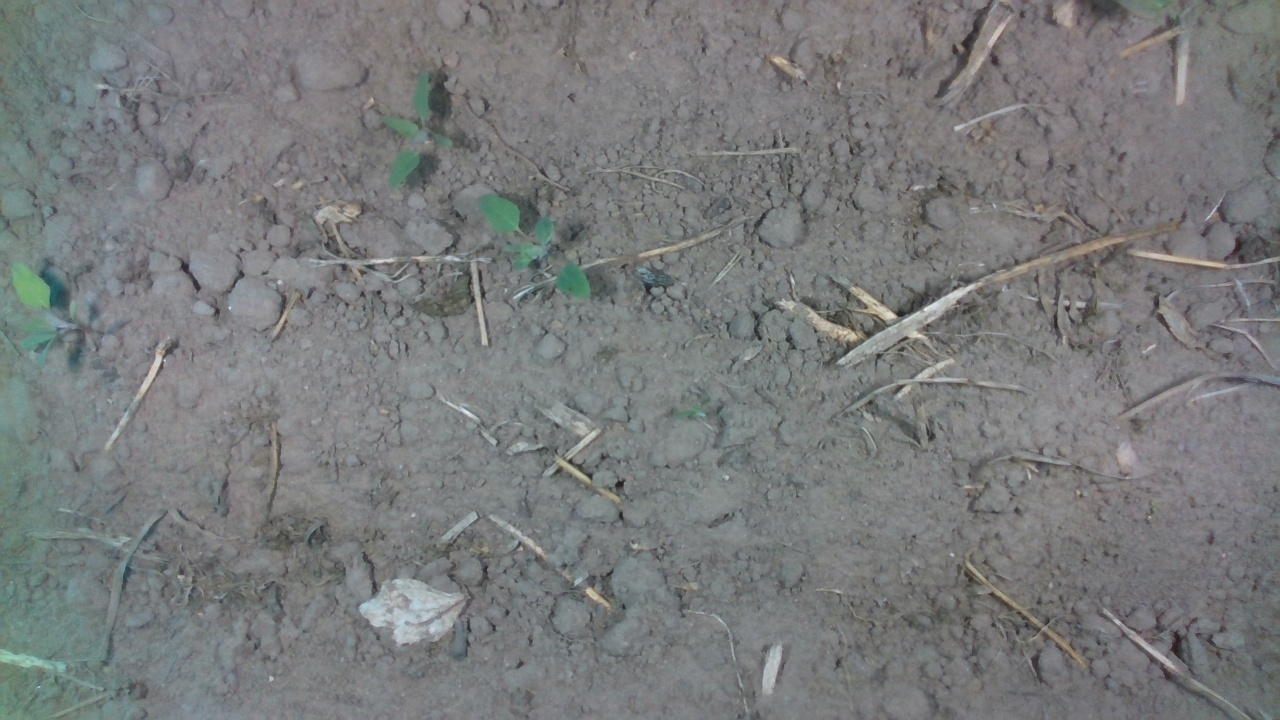weed: (377, 65, 455, 195)
